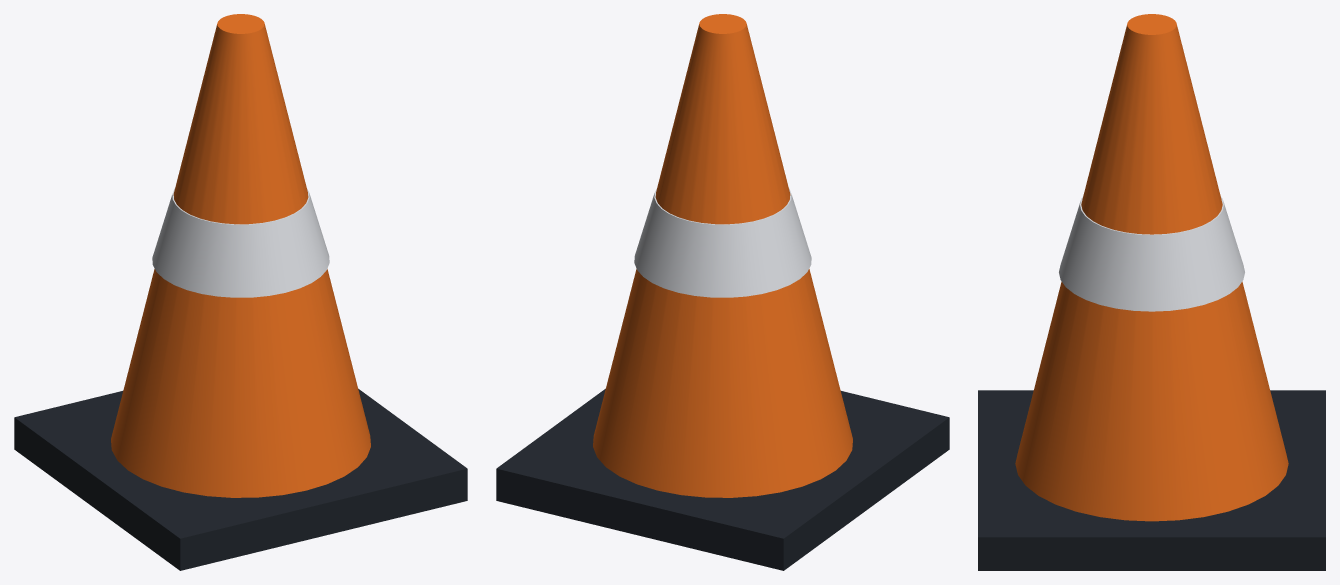
The model's file is training_cone.glb.
3 renders of one model, left to right at view 1: azimuth 30°, elevation 25°; view 2: azimuth 150°, elevation 25°; view 3: azimuth 270°, elevation 25°, orthographic. The views are drawn at different scales.
Visible parts, largest first — view 1: training_cone; view 2: training_cone; view 3: training_cone.
Boxes of the visible parts, x1,y1,x2,y2 form: training_cone: (14,14,467,570); training_cone: (496,14,949,570); training_cone: (978,14,1325,570).
Bounding box in the file's own units: 0.28 × 0.42 × 0.28.
